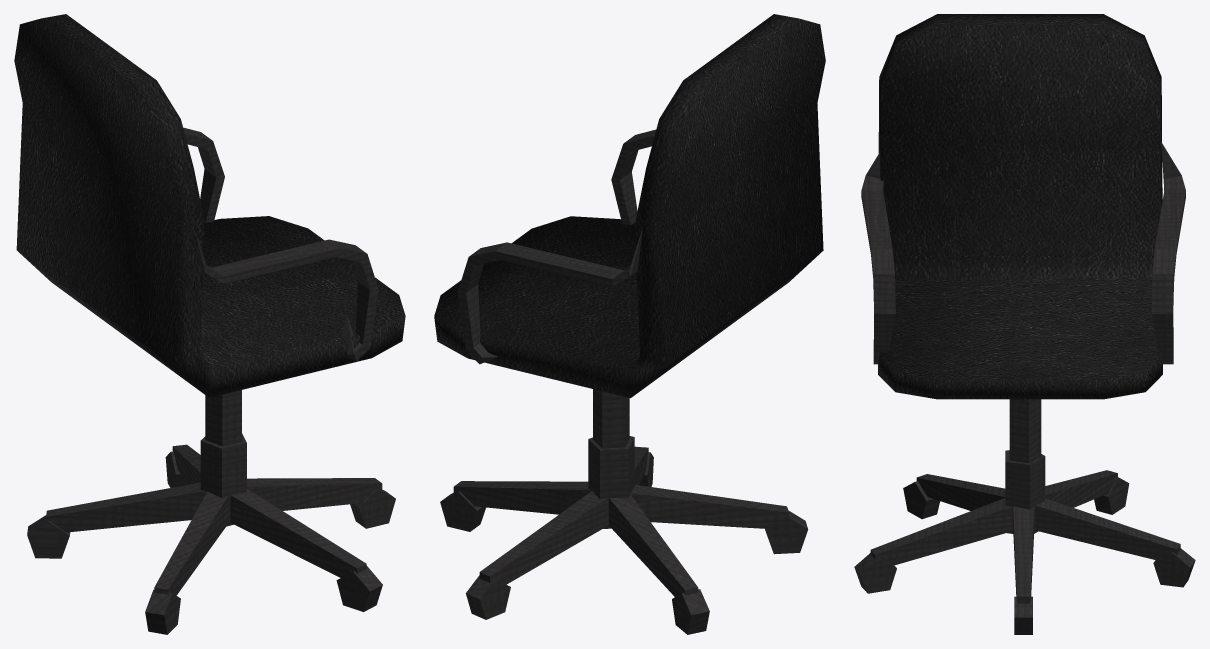
File: Chair_10-col.glb
3 renders of one model, left to right at view 1: azimuth 30°, elevation 25°; view 2: azimuth 150°, elevation 25°; view 3: azimuth 270°, elevation 25°, orthographic. The views are drawn at different scales.
Visible parts, largest first — view 1: Chair_10-col; view 2: Chair_10-col; view 3: Chair_10-col.
Boxes of the visible parts, x1,y1,x2,y2 form: Chair_10-col: [14, 14, 405, 634]; Chair_10-col: [434, 14, 825, 634]; Chair_10-col: [854, 14, 1195, 634].
Size of the model in its own units: 0.63 by 1.04 by 0.6563.
2 materials, 2 textured.
